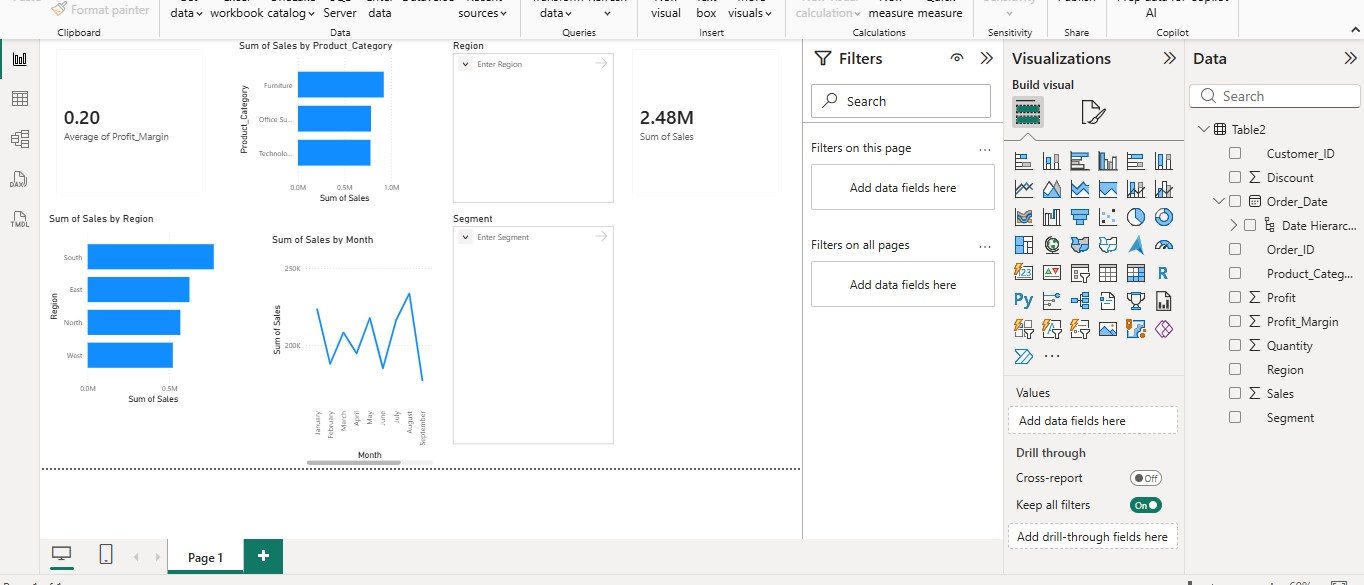

The dashboard page shown, as its layout file describes it:
{"tool":"powerbi","page":{"name":"Page 1","canvas":[1280,720],"ordinal":0},"visuals":[{"type":"cardVisual","fields":{"Data":["Avg(Table2.Profit_Margin)"]},"box":[10,0,280,280],"z":0},{"type":"clusteredBarChart","fields":{"Category":["Table2.Region "],"Y":["Sum(Table2.Sales)"]},"box":[10.1,290.6,309.1,327.6],"z":1},{"type":"clusteredBarChart","fields":{"Category":["Table2.Product_Category"],"Y":["Sum(Table2.Sales)"]},"box":[329,0,280,280],"z":2},{"type":"textSlicer","fields":{"Values":["Table2.Region "]},"box":[688,0,280,280],"z":4},{"type":"textSlicer","fields":{"Values":["Table2.Segment"]},"box":[688,291,280,395],"z":5},{"type":"cardVisual","fields":{"Data":["Sum(Table2.Sales)"]},"box":[978,0,280,280],"z":6},{"type":"lineChart","fields":{"Y":["Sum(Table2.Sales)"],"Category":["Table2.Order_Date.Variation.Date Hierarchy.Month"]},"box":[384.7,325.9,280.5,394.8],"z":7}]}

Visuals, with their boxes on the page's 1280x720 design canvas (x1, y1, x2, y2). These are canvas units, not pixel positions in the 1364x585 screenshot, which may show the page scaled, cropped or inside an application window:
cardVisual - Avg(Table2.Profit_Margin): BBox(10, 0, 290, 280)
clusteredBarChart - Table2.Region  x Sum(Table2.Sales): BBox(10, 291, 319, 618)
clusteredBarChart - Table2.Product_Category x Sum(Table2.Sales): BBox(329, 0, 609, 280)
textSlicer - Table2.Region : BBox(688, 0, 968, 280)
textSlicer - Table2.Segment: BBox(688, 291, 968, 686)
cardVisual - Sum(Table2.Sales): BBox(978, 0, 1258, 280)
lineChart - Sum(Table2.Sales) x Table2.Order_Date.Variation.Date Hierarchy.Month: BBox(385, 326, 665, 721)
